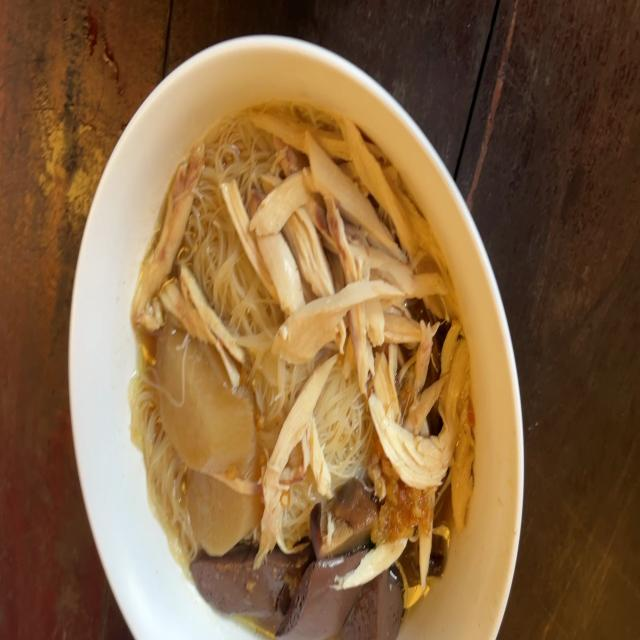noodle: (208, 547, 406, 640)
